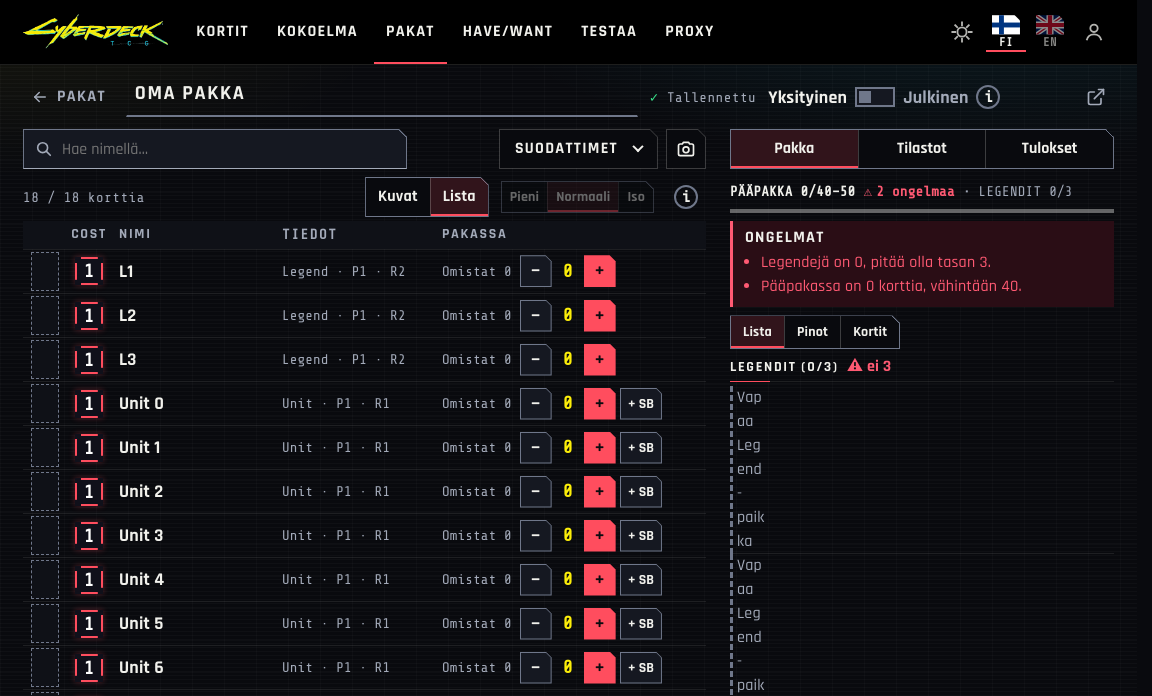
Test case: Results section of the deck editor › shows the colour and event tables only when there is something to show
The image size is (1152, 696).
Click the button "Tulokset" at (1049, 149), box [985,130,1113,168]
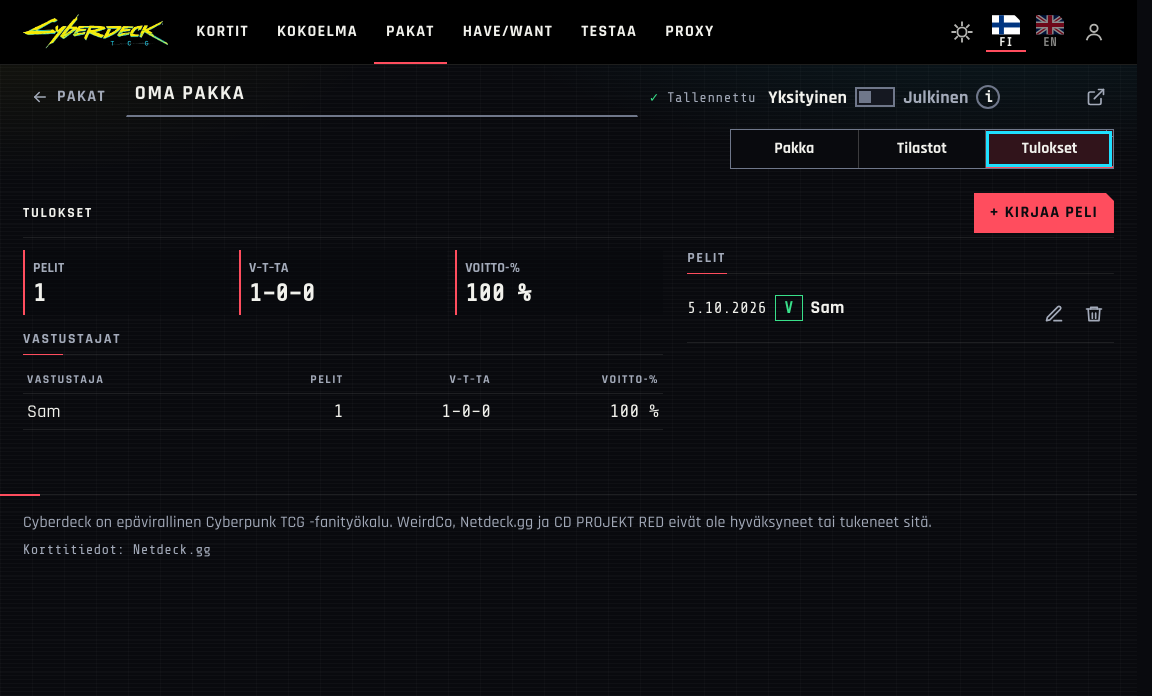
Check: the heading "Tulokset" is shown, box [23,204,93,222]
Check: the heading "Vastustajat" is shown, box [23,331,663,356]
